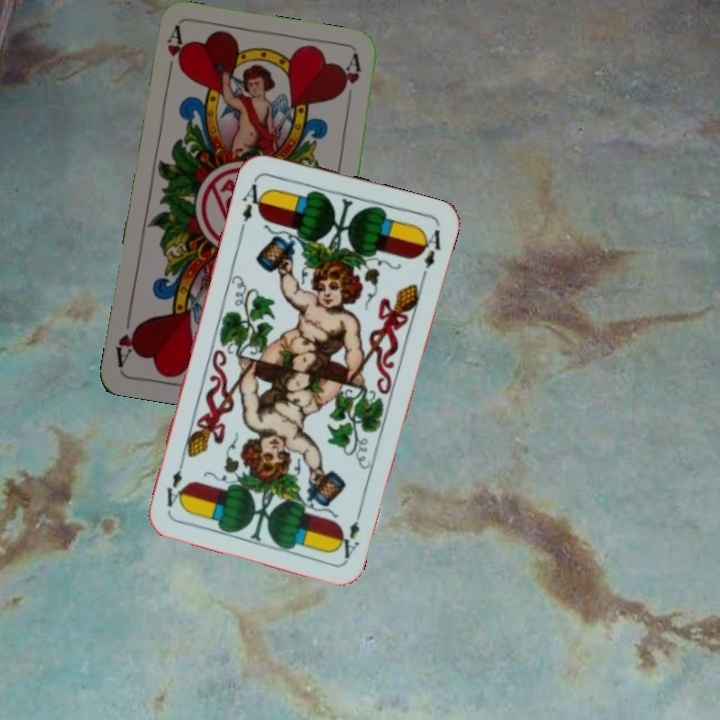EA: (236, 174, 269, 232), (333, 504, 365, 561)
HA: (162, 24, 189, 83)
